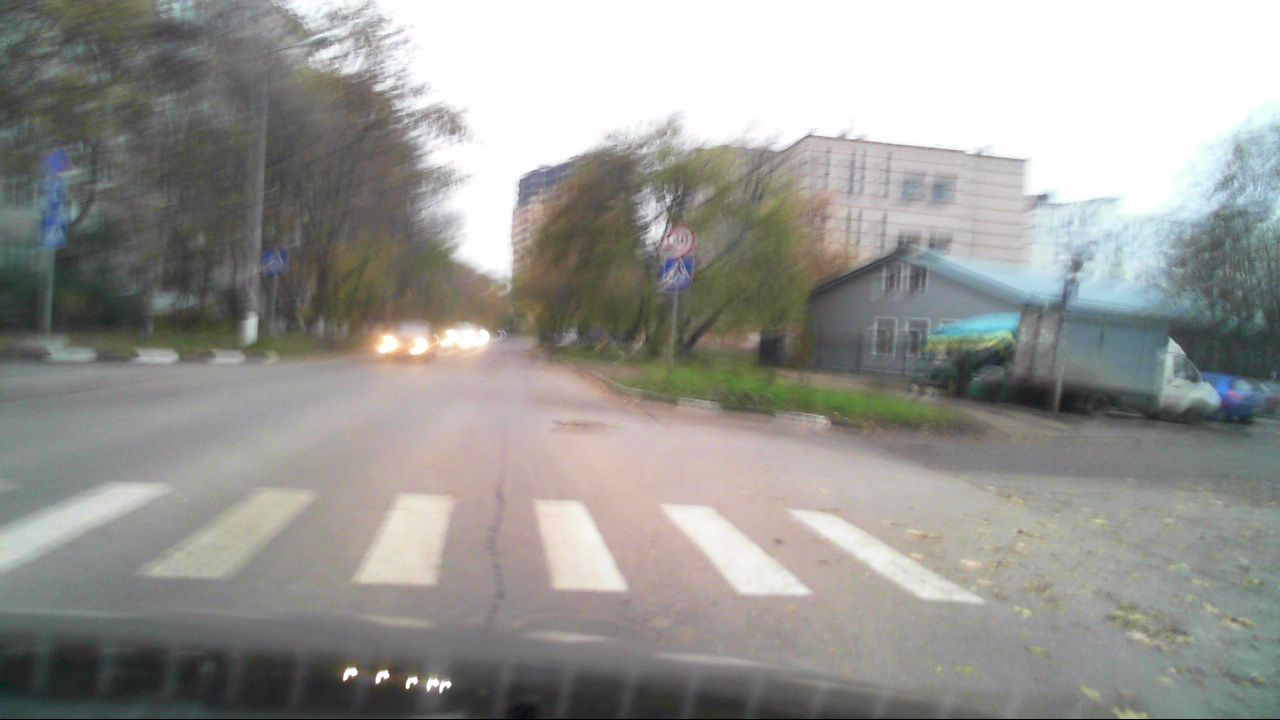speed_warning_40: (666, 223, 693, 251)
